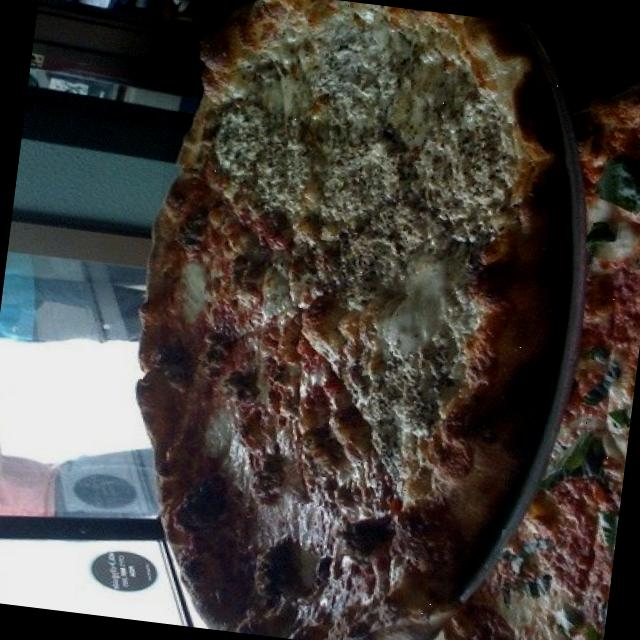basil: (580, 343, 636, 431), (543, 430, 600, 494), (591, 144, 640, 212), (500, 564, 574, 606), (496, 528, 551, 580), (587, 506, 619, 579), (584, 214, 620, 252), (558, 600, 592, 634), (575, 623, 605, 640)
cheese: (215, 26, 485, 254), (326, 232, 448, 446), (192, 402, 264, 499), (282, 502, 352, 581), (488, 576, 566, 640), (586, 200, 640, 260), (172, 253, 212, 319)
pizza: (136, 0, 561, 640), (444, 91, 640, 640)
